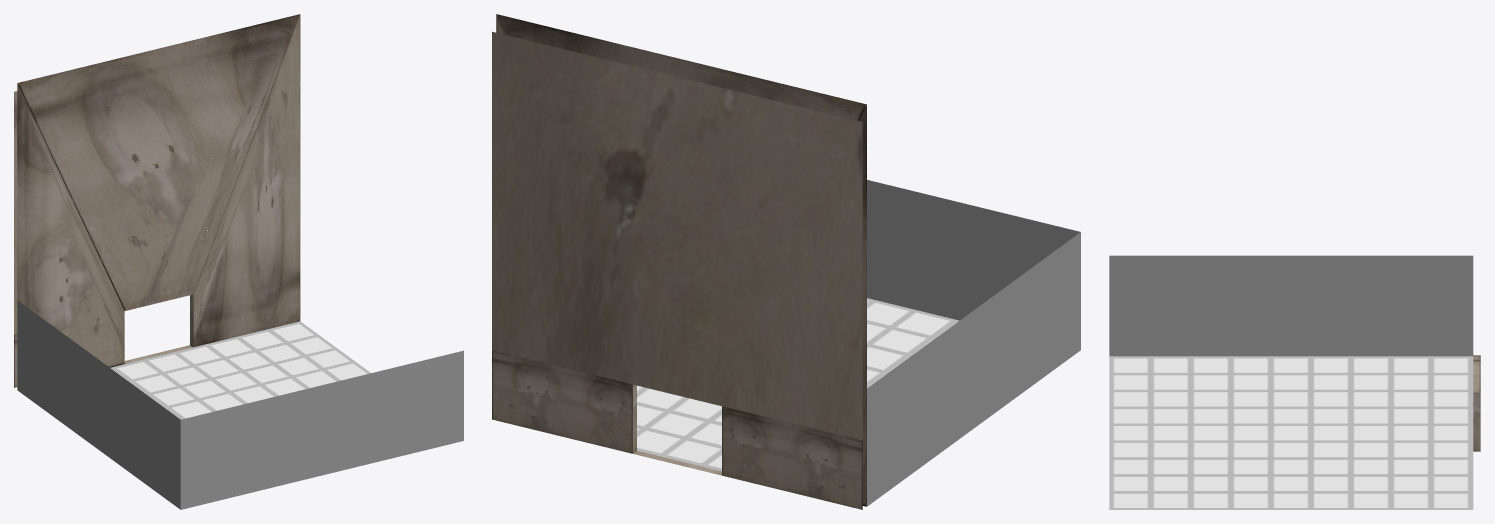
File: room_grid_floor_collision.fbx
3 renders of one model, left to right at view 1: azimuth 30°, elevation 25°; view 2: azimuth 150°, elevation 25°; view 3: azimuth 270°, elevation 25°, orthographic. The views are drawn at different scales.
Visible parts, largest first — view 1: polySurface706; view 2: polySurface706; view 3: polySurface706.
Part boxes in pixels (x1,y1,x2,y2): polySurface706: (14, 14, 463, 509); polySurface706: (492, 14, 1080, 509); polySurface706: (1109, 255, 1480, 509).
Bounding box in the file's own units: 10 × 10.38 × 10.2.
